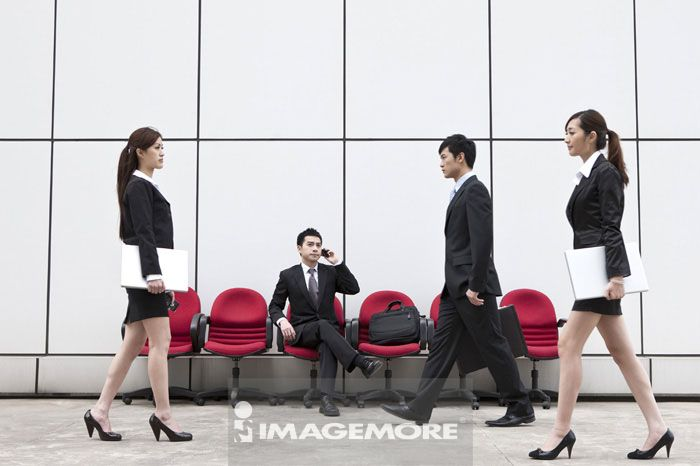talk: (306, 240, 339, 265)
